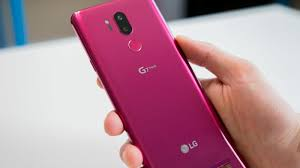lg: (64, 1, 246, 165)
